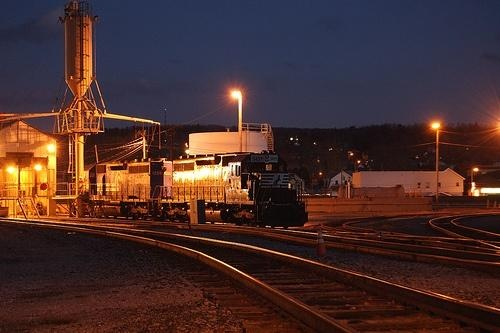train: (85, 153, 309, 230)
